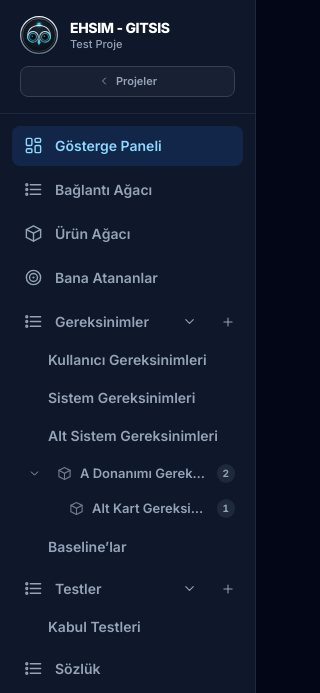
Test: Sidebar — bilesen gereksinim girdileri (Issue #140) › alt bilesen ust bilesenin altinda ic ice durur ve kapatilabilir
Expected: the text "Alt Kart Gereksinimleri" is shown, [92,499,208,518]
Click the button with test id "nav-component-toggle-c1" at (34, 473), box [24,463,45,484]
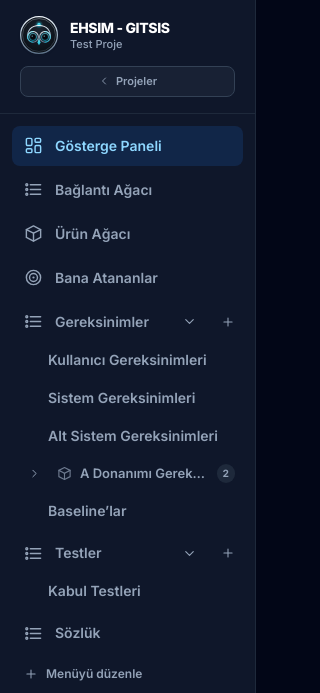
Expected: the button "Alt Kart Gereksinimleri" is gone
